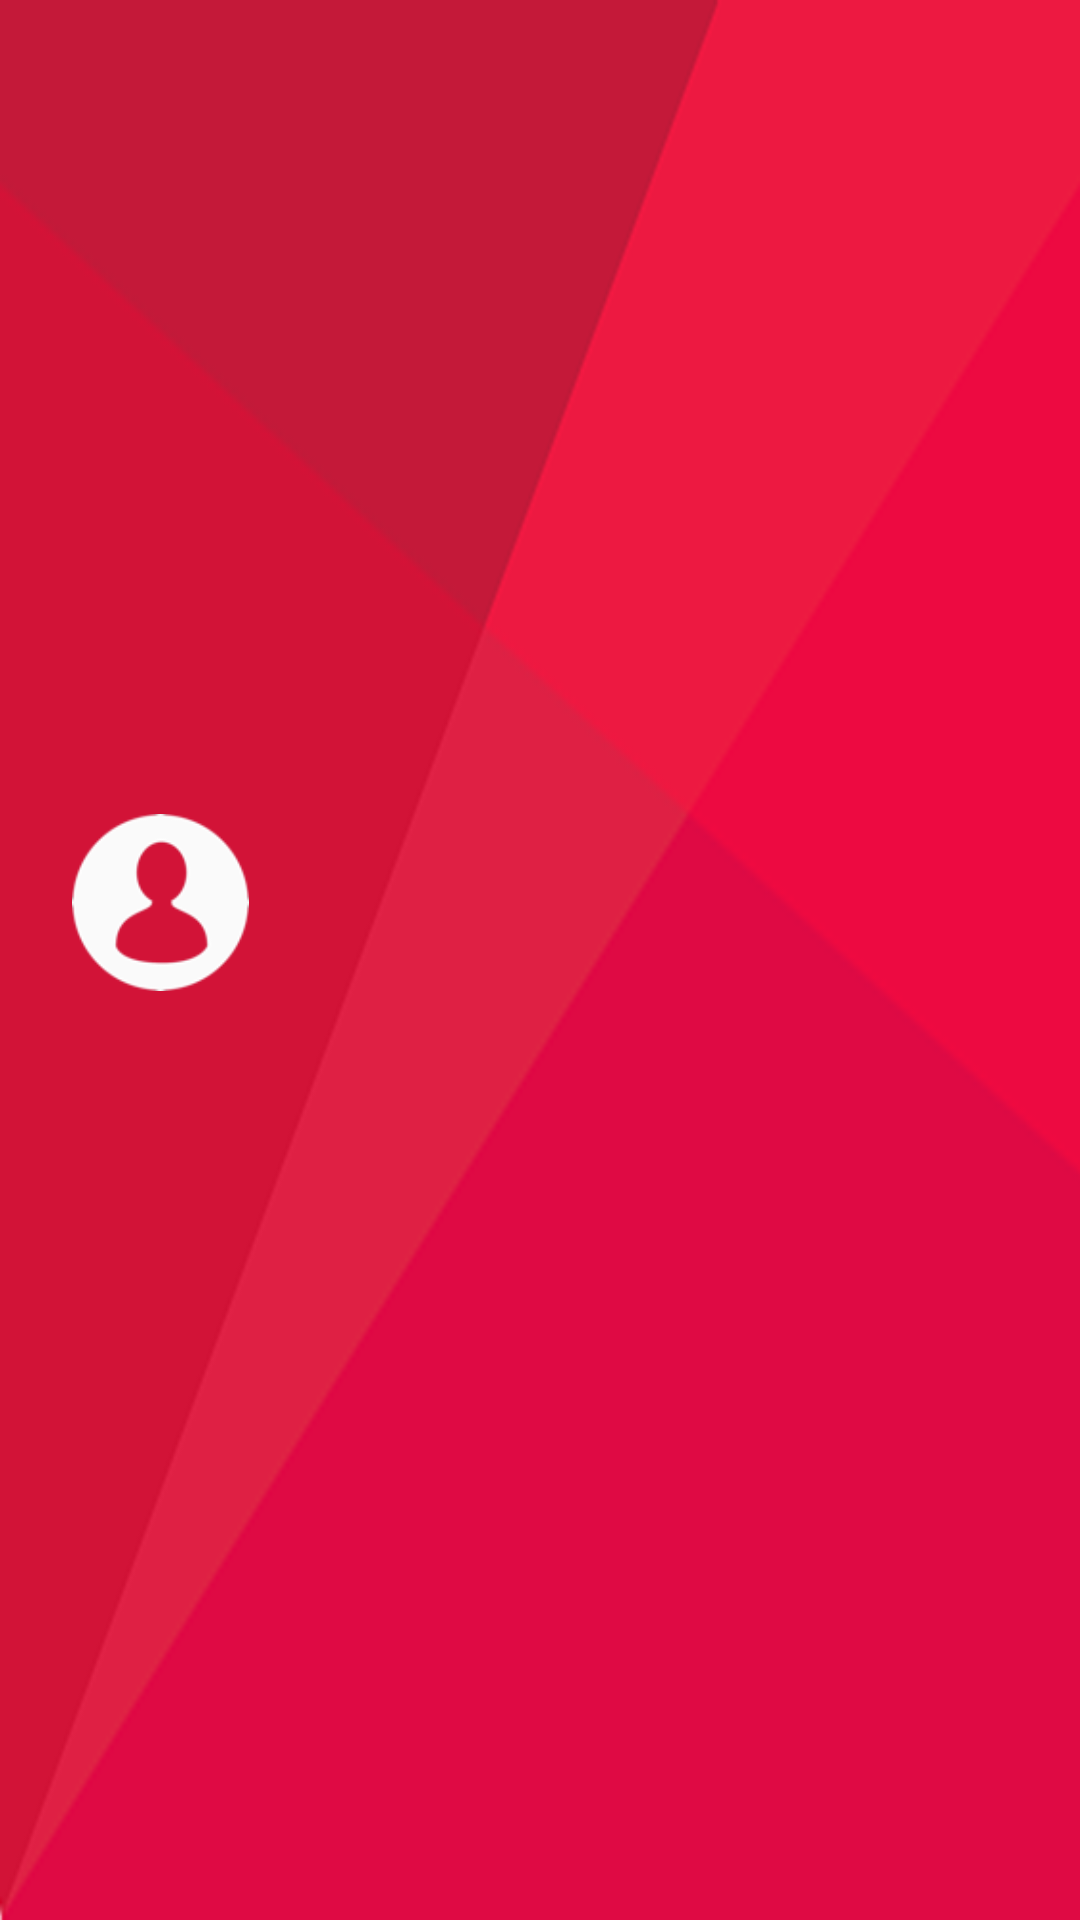

Named icons in this screenshot (1080*1920) and their bounding boxes, (x1, y1, x2, y2):
profile: (72, 814, 249, 991)
